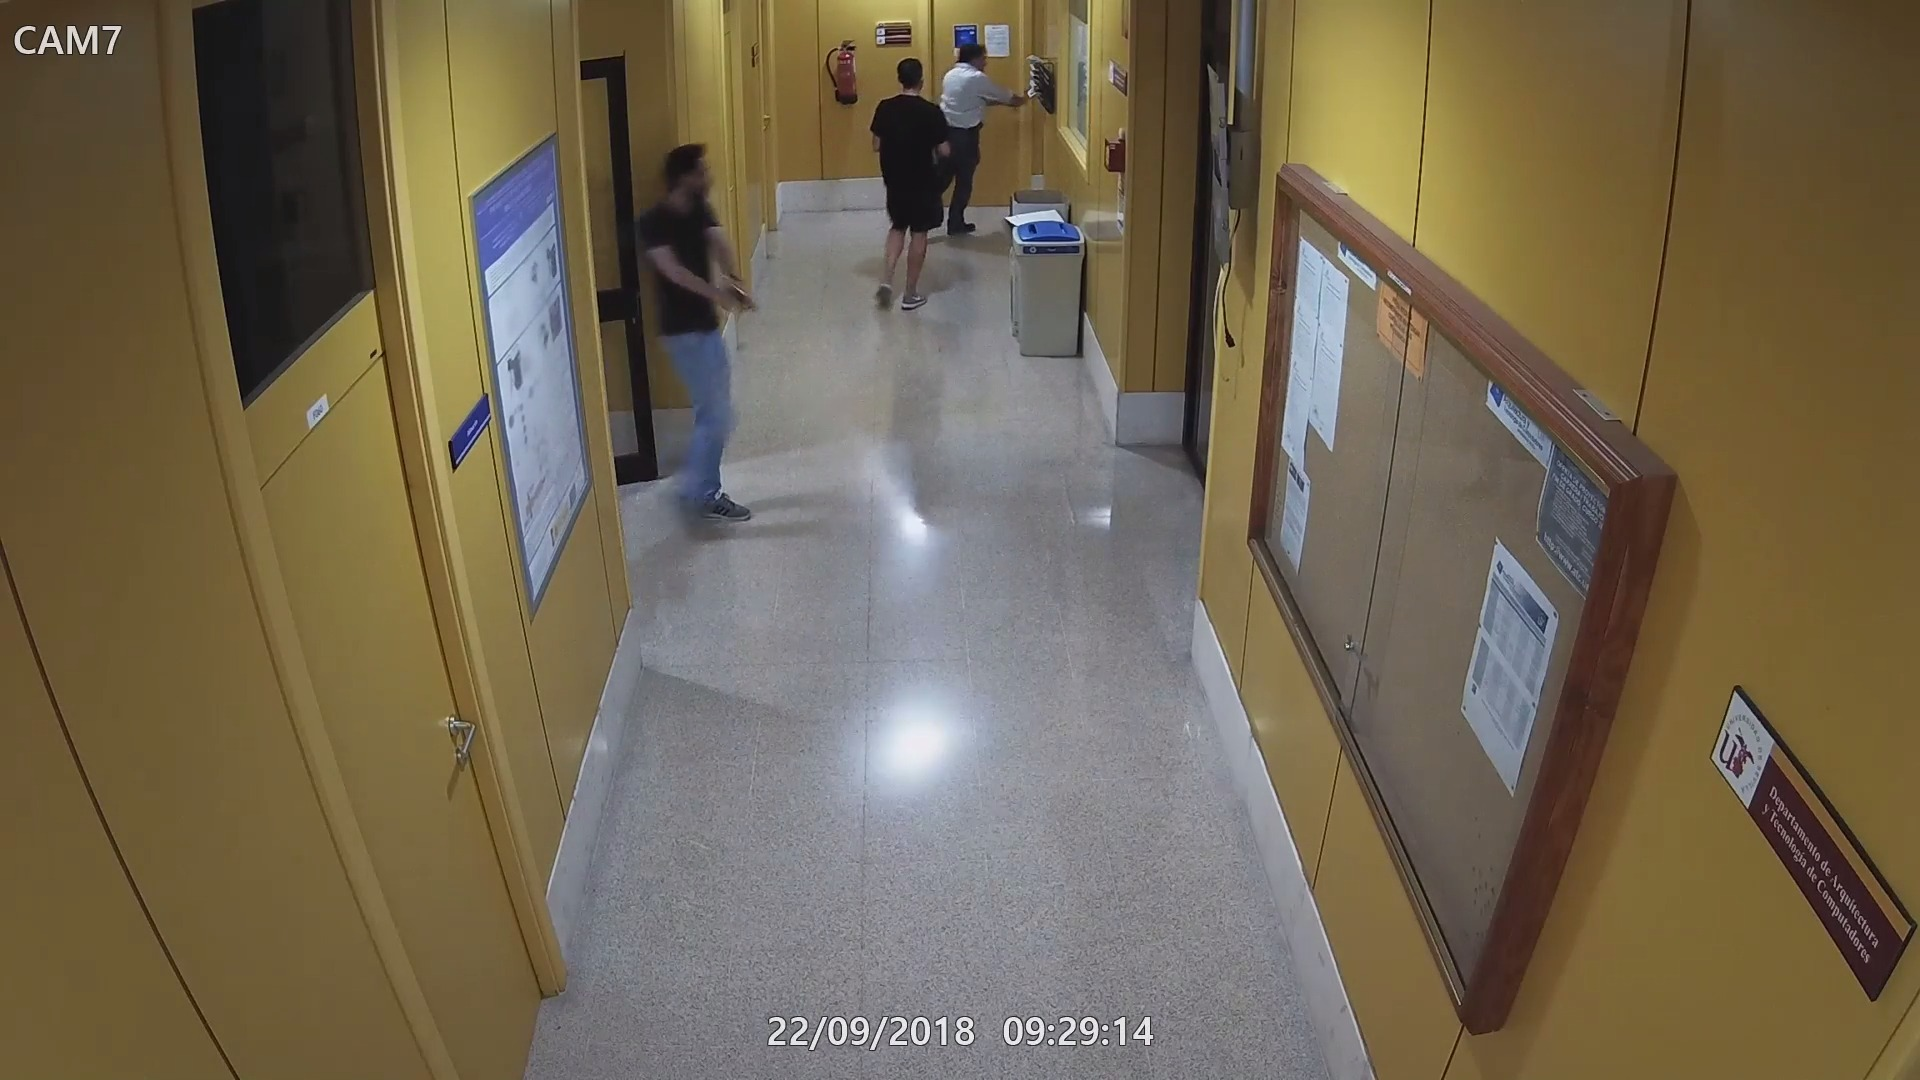Handgun: (719, 274, 757, 316), (1007, 84, 1035, 112)
